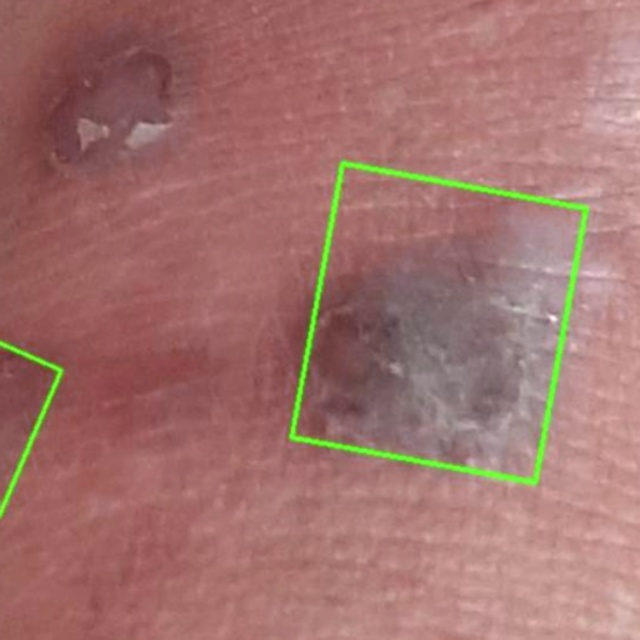Contact Dermatitis: (291, 162, 585, 481)
